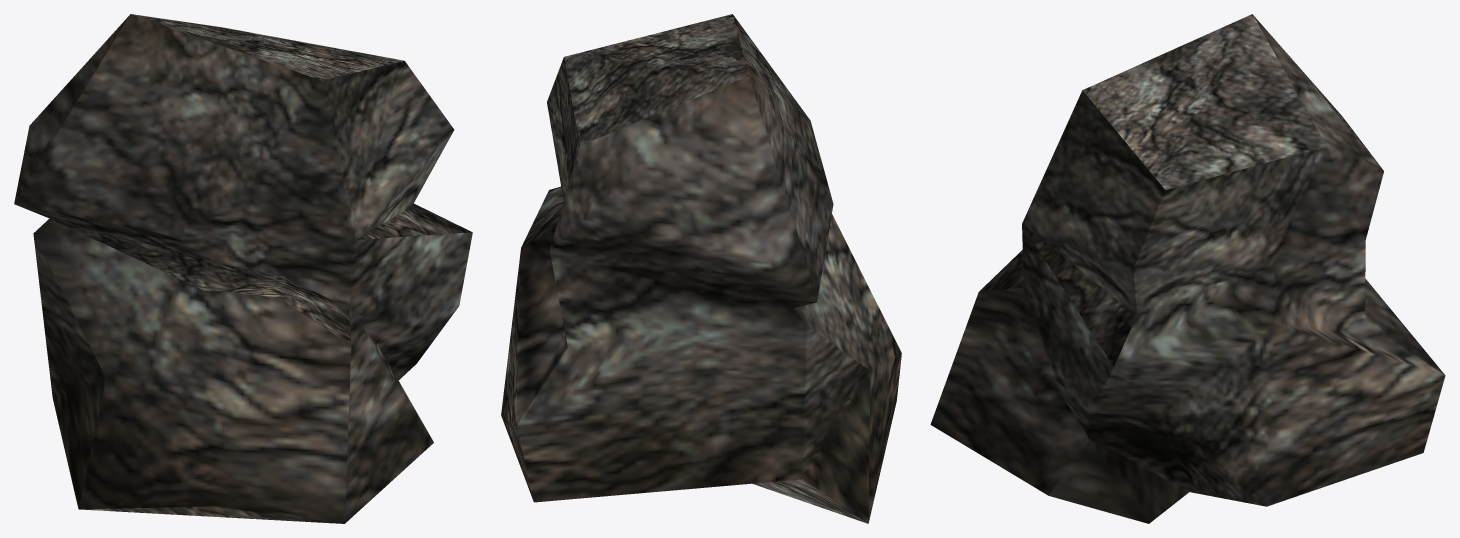
3 renders of one model, left to right at view 1: azimuth 30°, elevation 25°; view 2: azimuth 150°, elevation 25°; view 3: azimuth 270°, elevation 25°, orthographic. The views are drawn at different scales.
Visible parts, largest first — view 1: wj020; view 2: wj020; view 3: wj020.
Boxes of the visible parts, x1=… form: wj020: x1=14, y1=14, x2=472, y2=523; wj020: x1=501, y1=14, x2=901, y2=523; wj020: x1=930, y1=14, x2=1445, y2=523.
Bounding box in the file's own units: 278 × 329 × 352.
